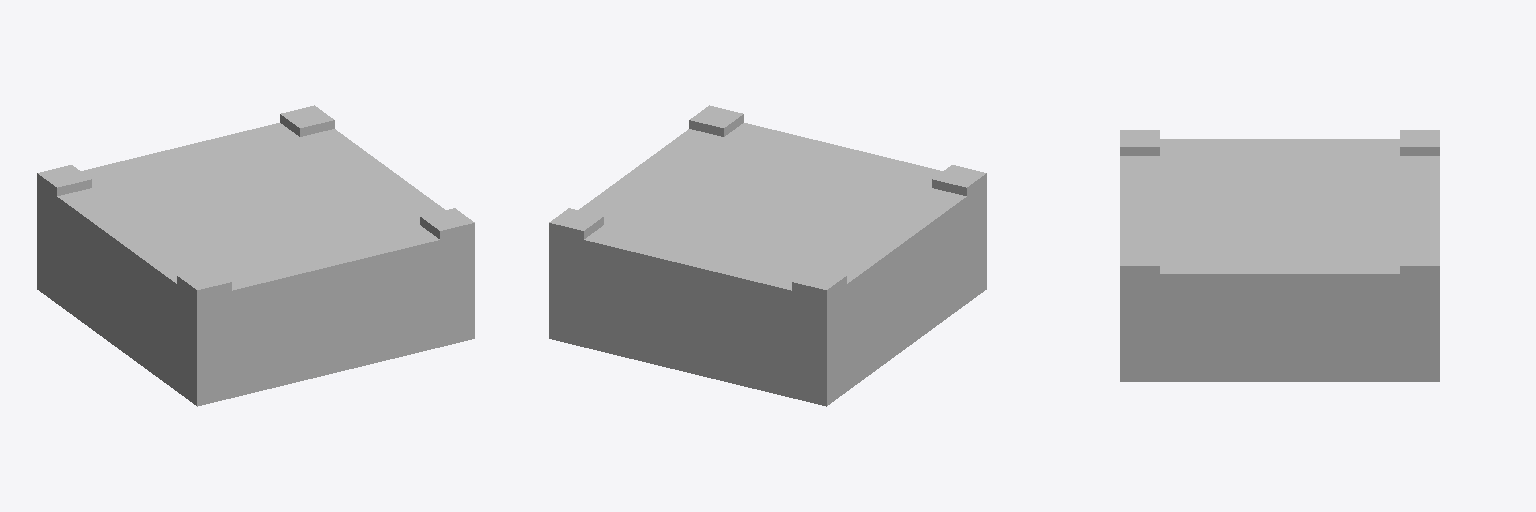
File: tile.obj
The picture shows the model from 3 angles: view 1: azimuth 30°, elevation 25°; view 2: azimuth 150°, elevation 25°; view 3: azimuth 270°, elevation 25°; orthographic projection.
Visible parts, largest first — view 1: tile; view 2: tile; view 3: tile.
Part boxes in pixels (left/top/right/bottom): tile: left=37, top=105, right=474, bottom=406; tile: left=549, top=105, right=986, bottom=406; tile: left=1120, top=130, right=1439, bottom=381.
Size of the model in its own units: 1 by 0.4 by 1.